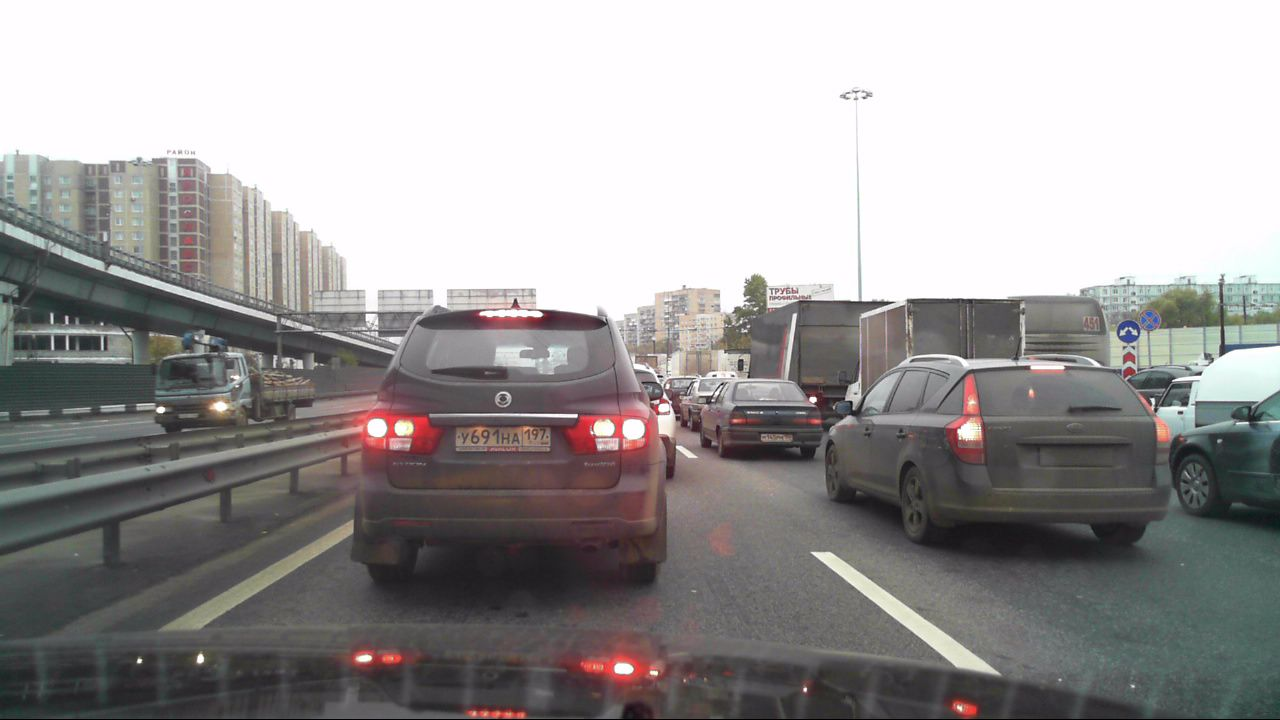No Parking: (1137, 308, 1158, 331)
